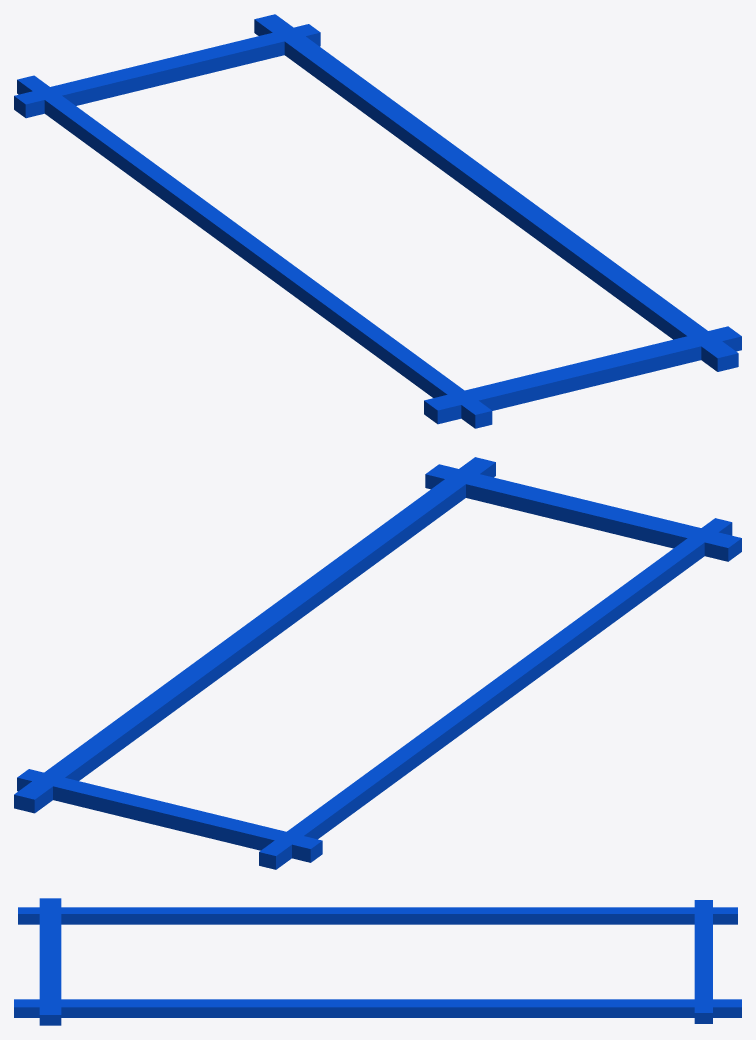
The model's file is hole-one-walls-v2.glb.
3 views of the same model, one above another, from view 1: azimuth 30°, elevation 25°; view 2: azimuth 150°, elevation 25°; view 3: azimuth 270°, elevation 25° (orthographic). The views are drawn at different scales.
Visible parts, largest first — view 1: hole1walls, hole1walls.002, hole1walls.001, hole1walls.003; view 2: hole1walls, hole1walls.002, hole1walls.001, hole1walls.003; view 3: hole1walls, hole1walls.002, hole1walls.001, hole1walls.003.
Boxes of the visible parts, left/top/right/bottom form: hole1walls: left=254, top=14, right=738, bottom=371; hole1walls.002: left=17, top=75, right=492, bottom=428; hole1walls.001: left=424, top=326, right=741, bottom=424; hole1walls.003: left=14, top=24, right=320, bottom=118; hole1walls: left=14, top=457, right=495, bottom=813; hole1walls.002: left=259, top=518, right=732, bottom=869; hole1walls.001: left=425, top=464, right=741, bottom=561; hole1walls.003: left=17, top=769, right=322, bottom=862; hole1walls: left=14, top=999, right=741, bottom=1017; hole1walls.002: left=18, top=907, right=737, bottom=924; hole1walls.001: left=39, top=898, right=61, bottom=1025; hole1walls.003: left=694, top=900, right=712, bottom=1023.
Bounding box in the file's own units: 4.14 × 0.1796 × 10.91.
